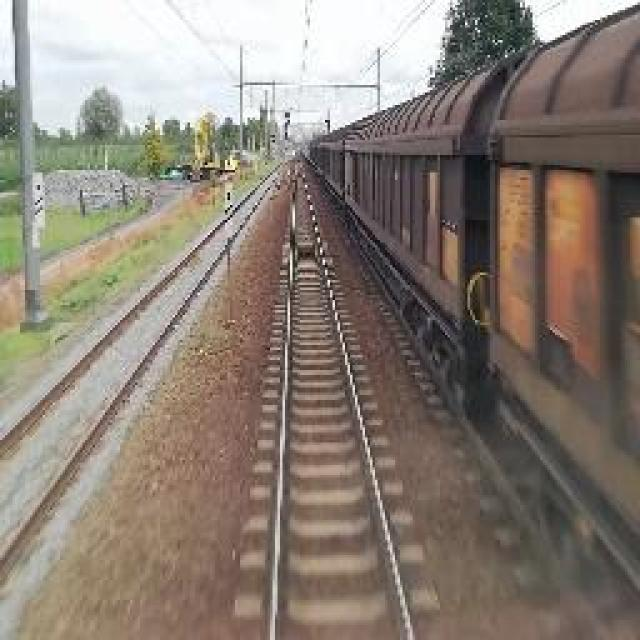rail: (233, 155, 449, 640)
